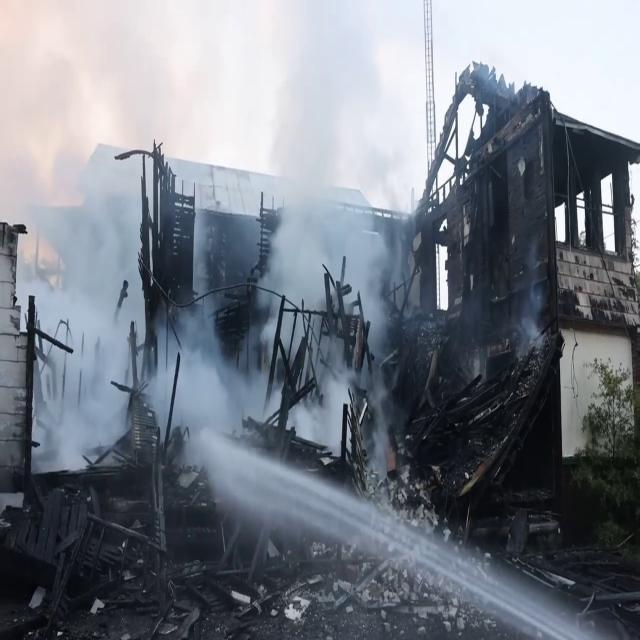Smoke: (68, 206, 406, 572)
